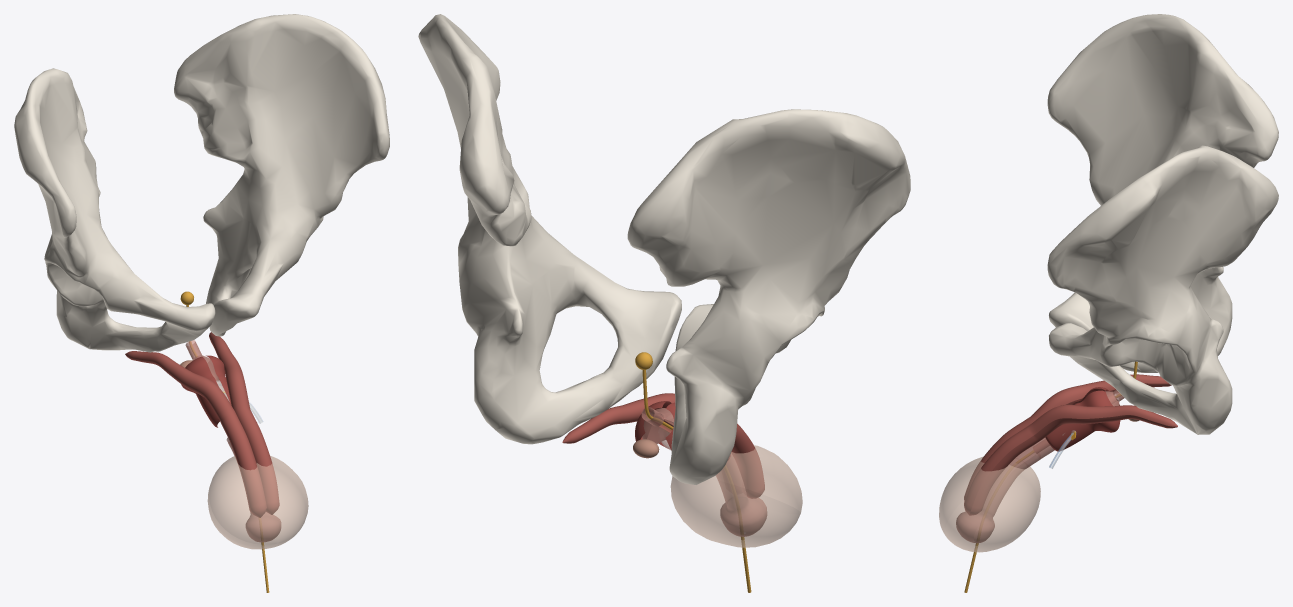
The model's file is aus-28-sizing.glb.
3 renders of one model, left to right at view 1: azimuth 30°, elevation 25°; view 2: azimuth 150°, elevation 25°; view 3: azimuth 270°, elevation 25°, orthographic. The views are drawn at different scales.
Visible parts, largest first — view 1: Pubis_L, Pubis_R, Scrotum_shell, Crus_R, Crus_L, Corpus_spongiosum, Bulbospongiosus_R; view 2: Pubis_R, Pubis_L, Scrotum_shell, Corpus_spongiosum, Crus_L, Crus_R, Catheter; view 3: Pubis_L, Pubis_R, Scrotum_shell, Crus_L, Corpus_spongiosum, Crus_R, Bulbospongiosus_L, Catheter.
Part boxes in pixels (left/top/right/bottom): Pubis_L: left=174, top=14, right=389, bottom=336; Pubis_R: left=14, top=68, right=215, bottom=352; Scrotum_shell: left=207, top=455, right=308, bottom=549; Crus_R: left=125, top=351, right=266, bottom=517; Crus_L: left=209, top=332, right=279, bottom=514; Corpus_spongiosum: left=185, top=340, right=281, bottom=542; Bulbospongiosus_R: left=181, top=356, right=219, bottom=427; Pubis_R: left=627, top=109, right=910, bottom=484; Pubis_L: left=418, top=14, right=681, bottom=444; Scrotum_shell: left=670, top=445, right=802, bottom=547; Corpus_spongiosum: left=641, top=407, right=767, bottom=536; Crus_L: left=562, top=393, right=739, bottom=492; Crus_R: left=731, top=423, right=764, bottom=498; Catheter: left=635, top=352, right=751, bottom=592; Pubis_L: left=1047, top=145, right=1278, bottom=434; Pubis_R: left=1047, top=14, right=1278, bottom=372; Scrotum_shell: left=939, top=456, right=1040, bottom=552; Crus_L: left=964, top=404, right=1177, bottom=515; Corpus_spongiosum: left=956, top=390, right=1124, bottom=543; Crus_R: left=964, top=374, right=1171, bottom=500; Bulbospongiosus_L: left=1045, top=390, right=1120, bottom=451; Catheter: left=964, top=361, right=1137, bottom=592.
Size of what is drawn, in the model's own units: 0.2698 by 0.3444 by 0.2098.
